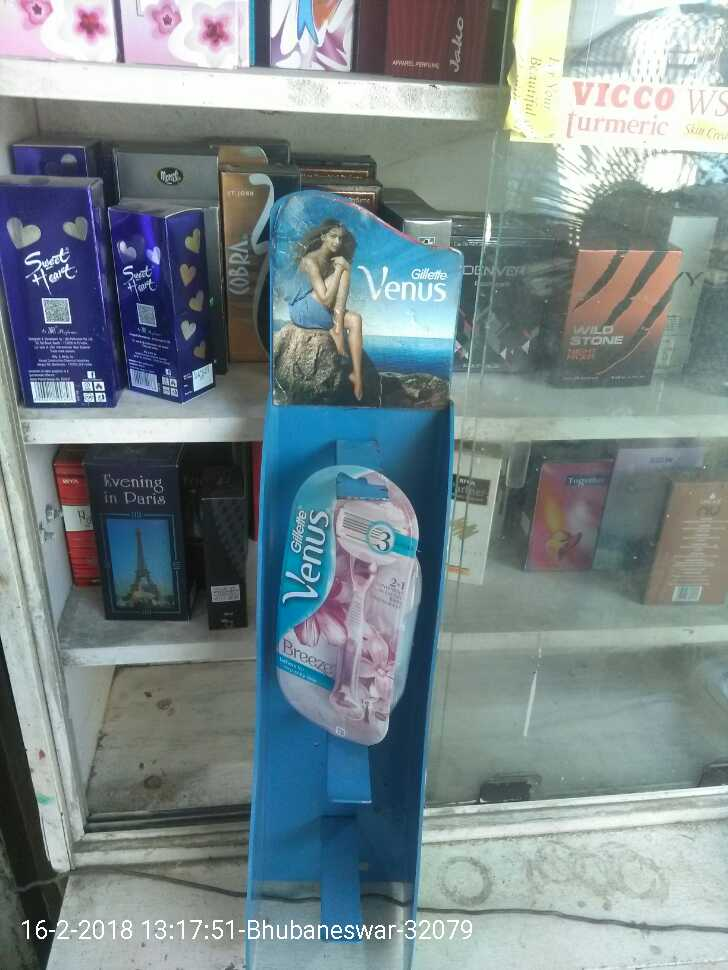venus: (265, 465, 412, 753)
